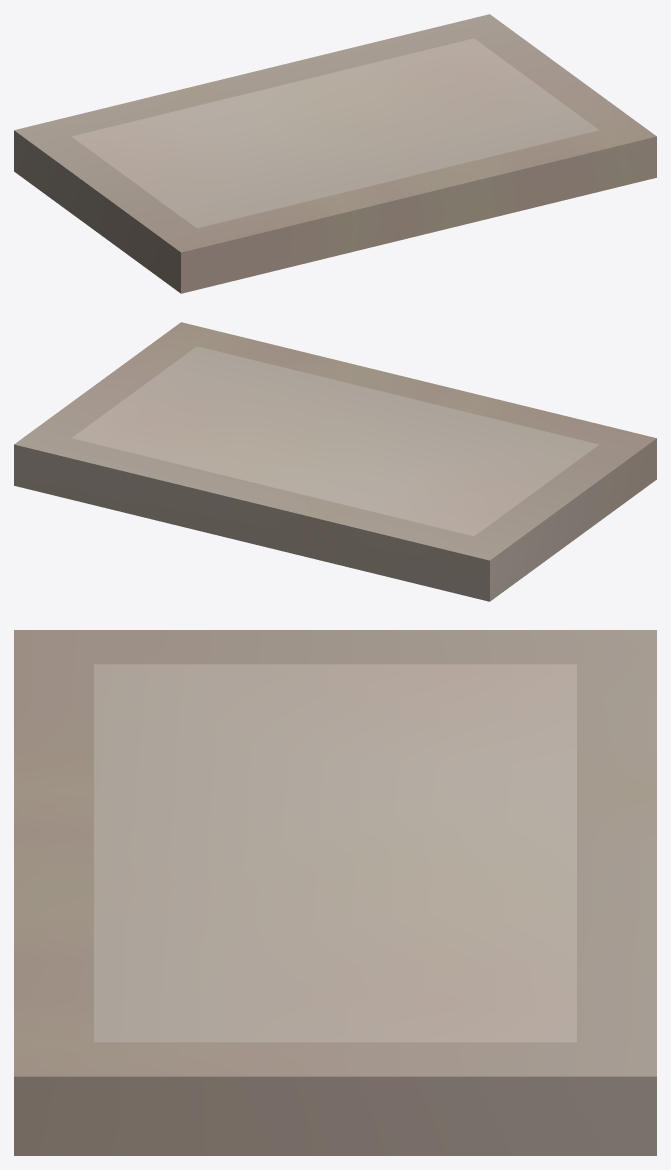
The model's file is M_StoneSlab_03.fbx.
The picture shows the model from 3 angles, top to bottom: view 1: azimuth 30°, elevation 25°; view 2: azimuth 150°, elevation 25°; view 3: azimuth 270°, elevation 25°; orthographic projection. The views are drawn at different scales.
Parts seen in each view (by area): view 1: M_StoneSlab_03; view 2: M_StoneSlab_03; view 3: M_StoneSlab_03.
Part boxes in pixels (x1,y1,x2,y2): M_StoneSlab_03: [14, 14, 656, 293]; M_StoneSlab_03: [14, 322, 656, 601]; M_StoneSlab_03: [14, 630, 656, 1155].
Size of the model in its own units: 289 by 23.95 by 176.
1 material, 1 textured.
